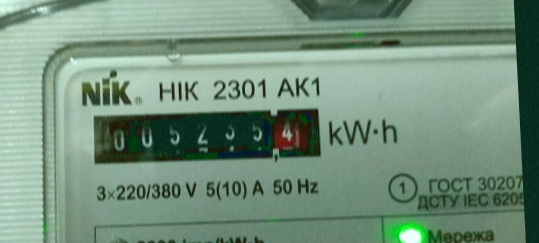0: (112, 125, 129, 151), (141, 121, 156, 147)
2: (195, 118, 211, 143)
3: (223, 114, 239, 140)
4: (280, 115, 297, 142)
5: (167, 119, 184, 146), (250, 114, 267, 141)
screen: (84, 93, 335, 175)
